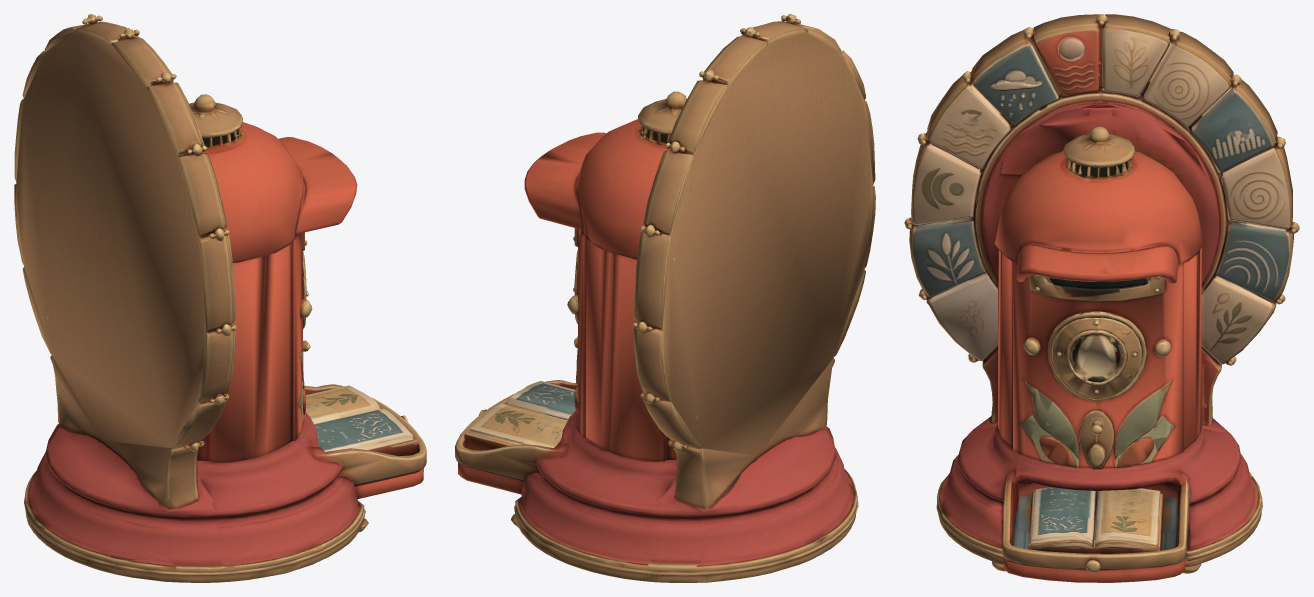
File: sensory-post-station-p1.glb
3 renders of one model, left to right at view 1: azimuth 30°, elevation 25°; view 2: azimuth 150°, elevation 25°; view 3: azimuth 270°, elevation 25°, orthographic. The views are drawn at different scales.
Parts seen in each view (by area): view 1: tripo_node_5d206eec-bcab-4cbf-b3a2-ca1f4e98802a; view 2: tripo_node_5d206eec-bcab-4cbf-b3a2-ca1f4e98802a; view 3: tripo_node_5d206eec-bcab-4cbf-b3a2-ca1f4e98802a.
Part boxes in pixels (x1=…): tripo_node_5d206eec-bcab-4cbf-b3a2-ca1f4e98802a: x1=14, y1=14, x2=426, y2=582; tripo_node_5d206eec-bcab-4cbf-b3a2-ca1f4e98802a: x1=455, y1=14, x2=875, y2=582; tripo_node_5d206eec-bcab-4cbf-b3a2-ca1f4e98802a: x1=904, y1=14, x2=1299, y2=582.
Bounding box in the file's own units: 0.3707 × 0.5 × 0.3785.
1 material, 1 textured.
